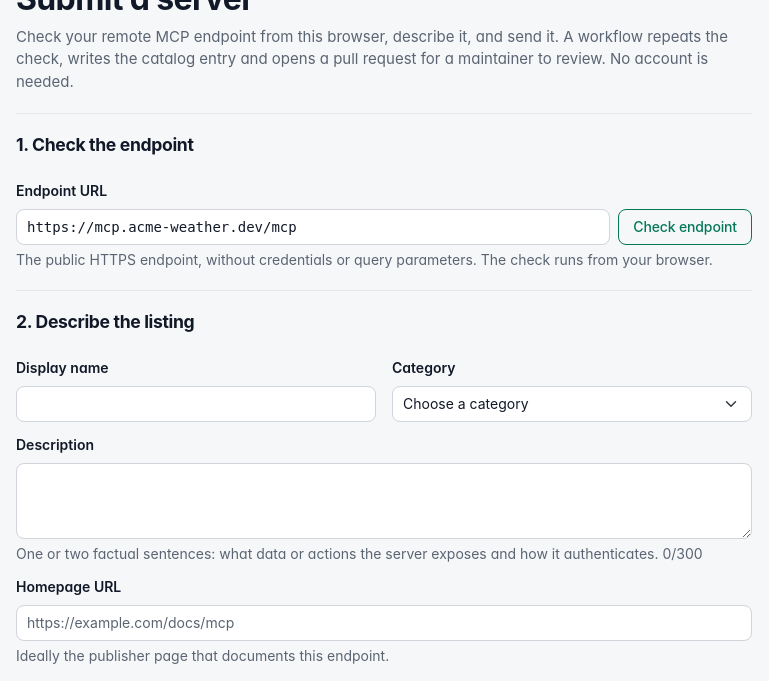
SubmitServerView › shows field errors and does not post an incomplete listing
Click the button "Check endpoint": (685, 227) [618,209,752,245]
(page scrolled)
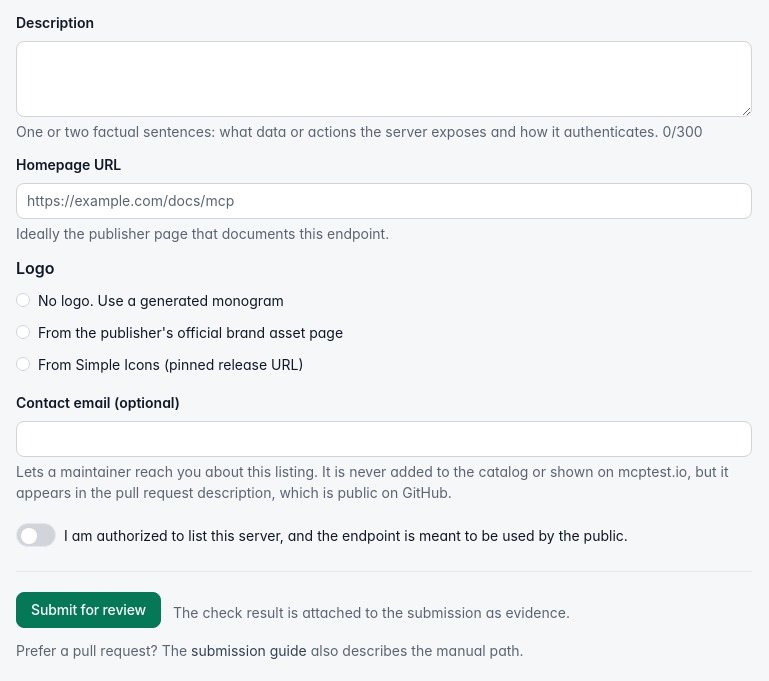
Click the button "Submit for review": (88, 610) [16,592,161,628]
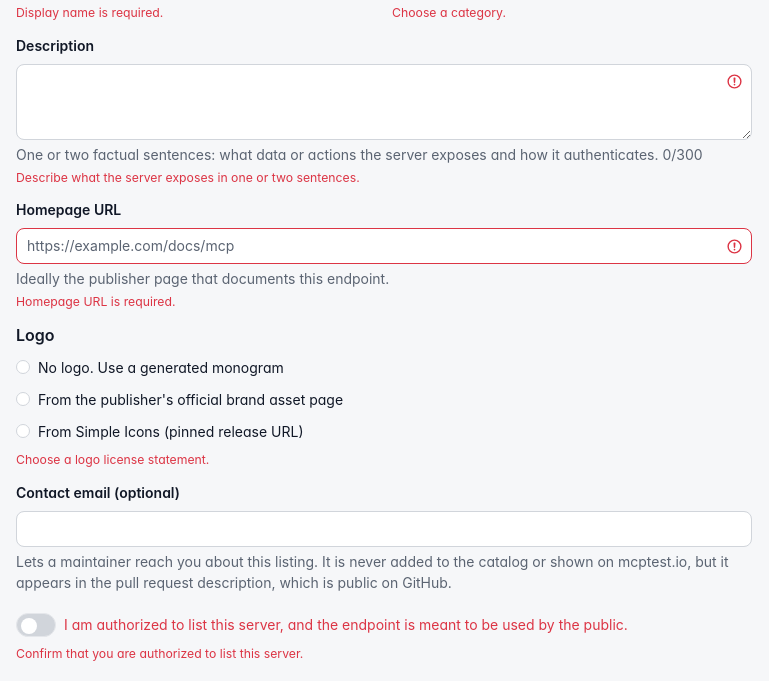
expect the text "Display name is required." is shown: met, box [16,5,163,20]
expect the text "Choose a category." is shown: met, box [392,5,506,20]
expect the text "Choose a logo license statement." is shown: met, box [16,452,209,467]
